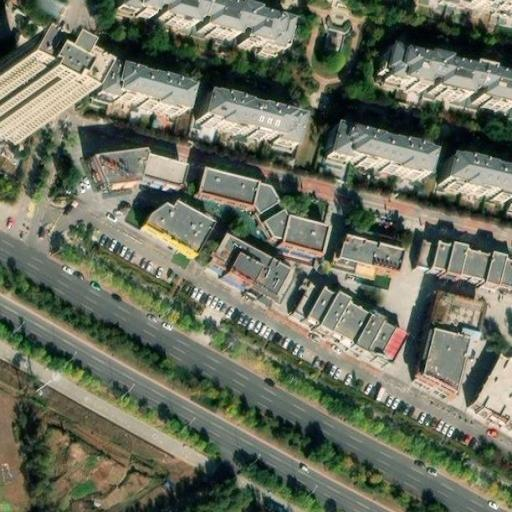building: (286, 281, 399, 364), (380, 51, 512, 115), (410, 305, 473, 400), (324, 130, 432, 183), (209, 232, 294, 299), (199, 96, 302, 151), (94, 66, 190, 118), (419, 239, 512, 287), (142, 200, 215, 254), (198, 168, 281, 213), (98, 147, 188, 187), (442, 160, 512, 211), (264, 209, 332, 250), (474, 357, 512, 422), (341, 233, 406, 270), (0, 95, 32, 145)
